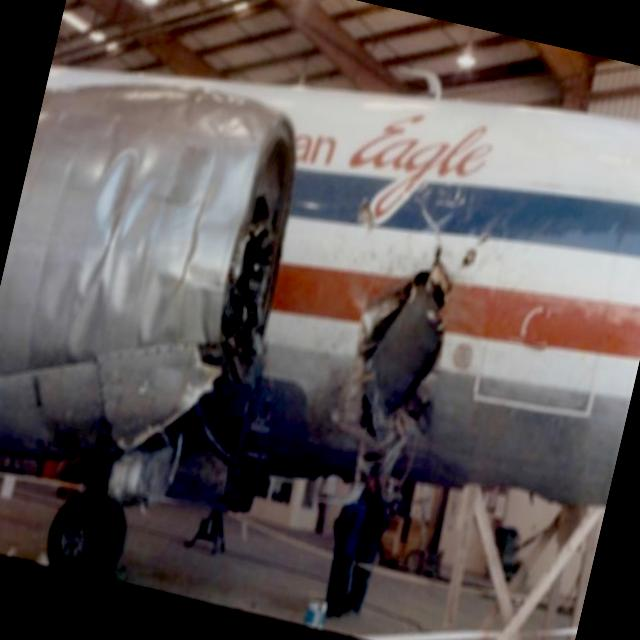dent: (24, 132, 230, 393)
